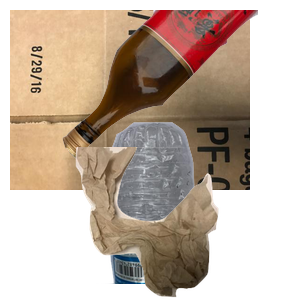cardboard: (10, 10, 250, 190)
glass: (60, 10, 300, 163)
plastic: (96, 120, 285, 300)
trash: (73, 147, 300, 300)
